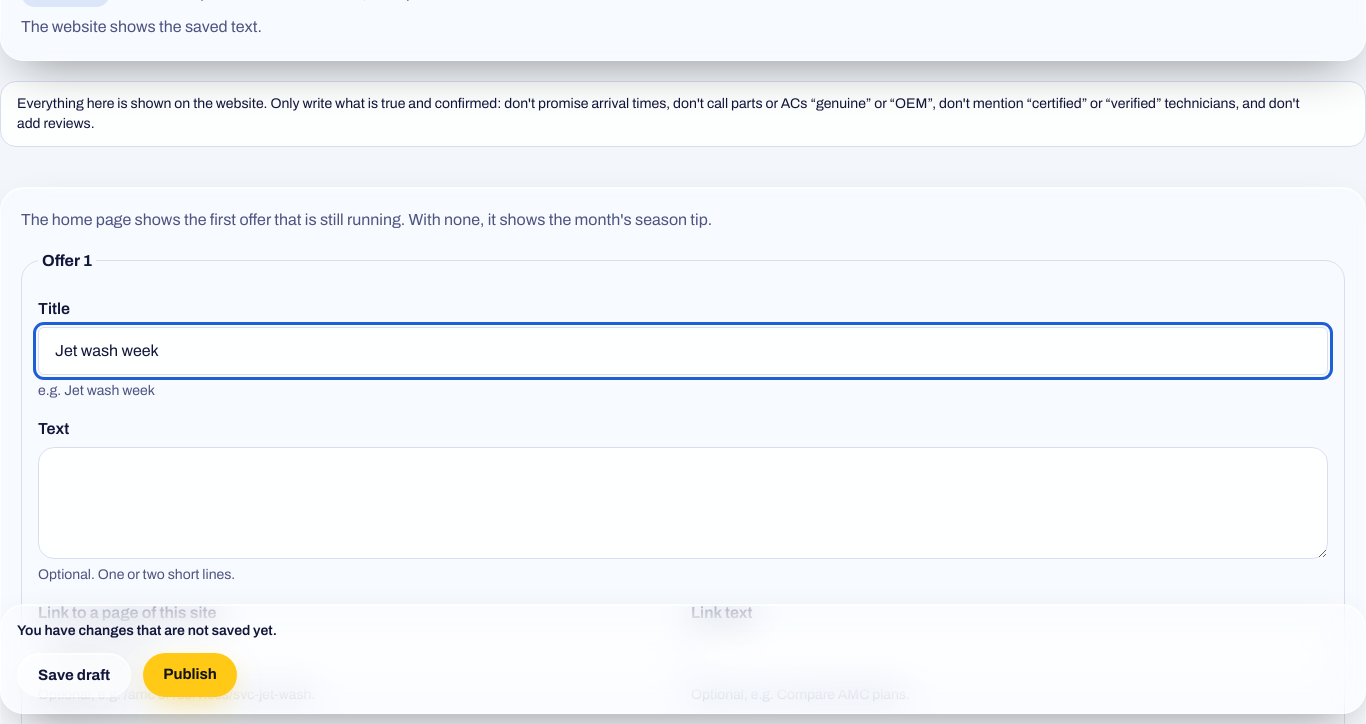
it: Offers editor › says to use a page of this site for a link to another website, without saving
Earlier steps of the test are not shown.
Step 1. Click the button "Save draft" → (74, 675), box [17,653,131,697]
(page scrolled)
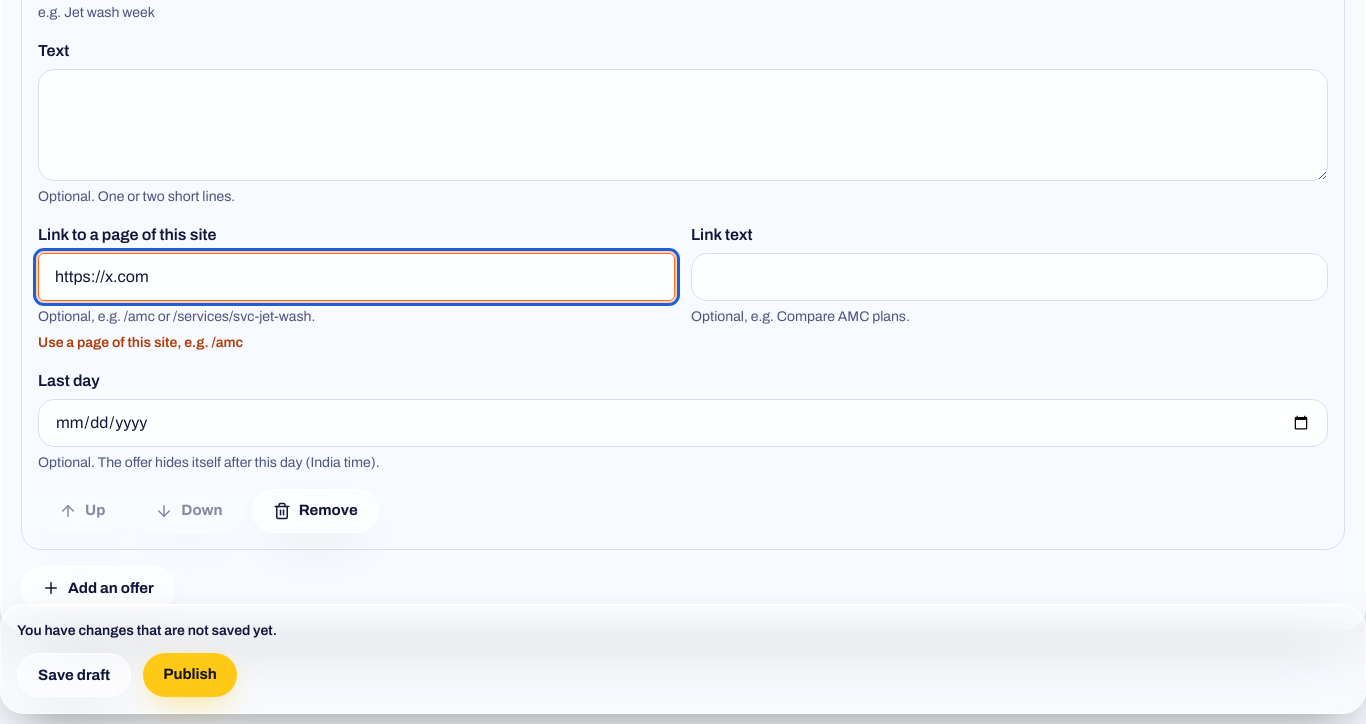
Check: the text "Use a page of this site, e.g. /amc" is shown, box [38,335,243,350]
